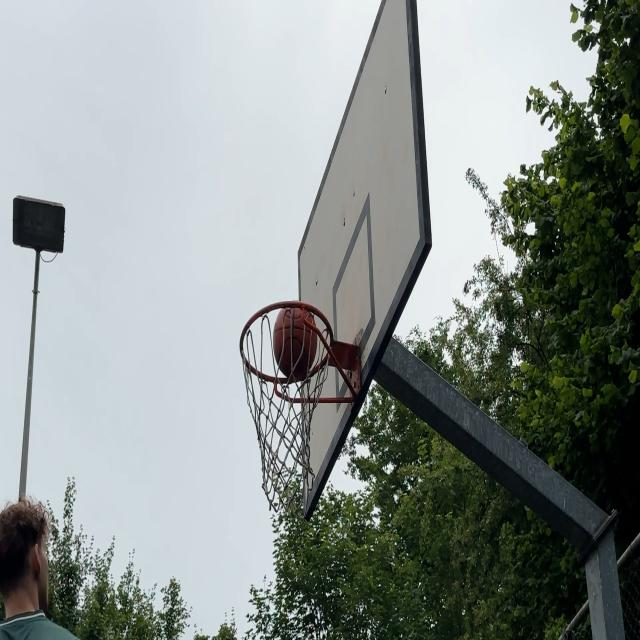Basketball: (270, 304, 325, 380)
